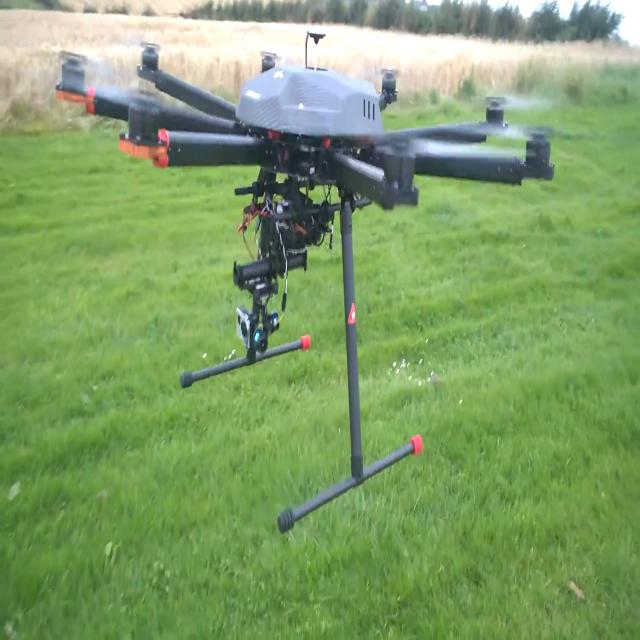drone: (49, 14, 590, 613)
